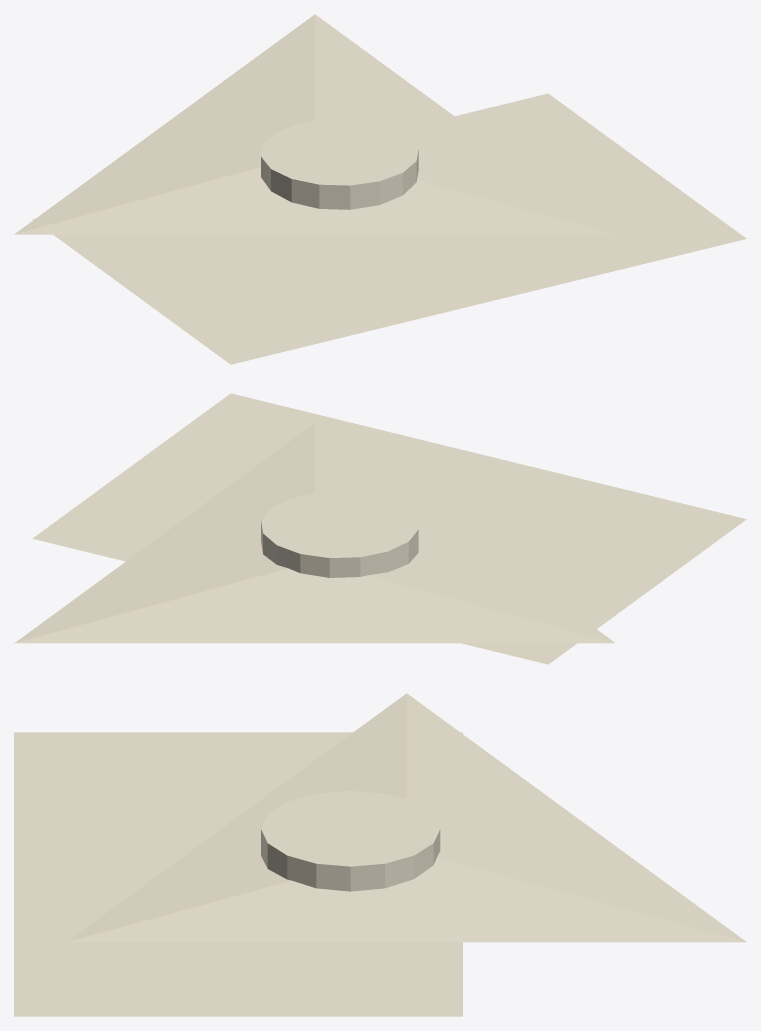
File: letter.glb
The picture shows the model from 3 angles, top to bottom: view 1: azimuth 30°, elevation 25°; view 2: azimuth 150°, elevation 25°; view 3: azimuth 270°, elevation 25°; orthographic projection. The views are drawn at different scales.
Visible parts, largest first — view 1: letter; view 2: letter; view 3: letter.
Part boxes in pixels (x1=…): letter: x1=14, y1=14, x2=746, y2=364; letter: x1=14, y1=393, x2=746, y2=664; letter: x1=14, y1=693, x2=746, y2=1016.
Size of the model in its own units: 0.065 by 0.0045 by 0.0653.
